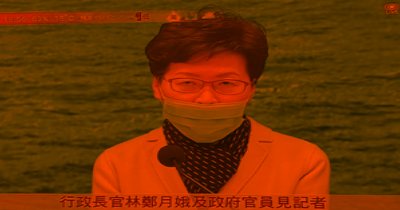mask_weared_incorrect: (161, 69, 252, 144)
